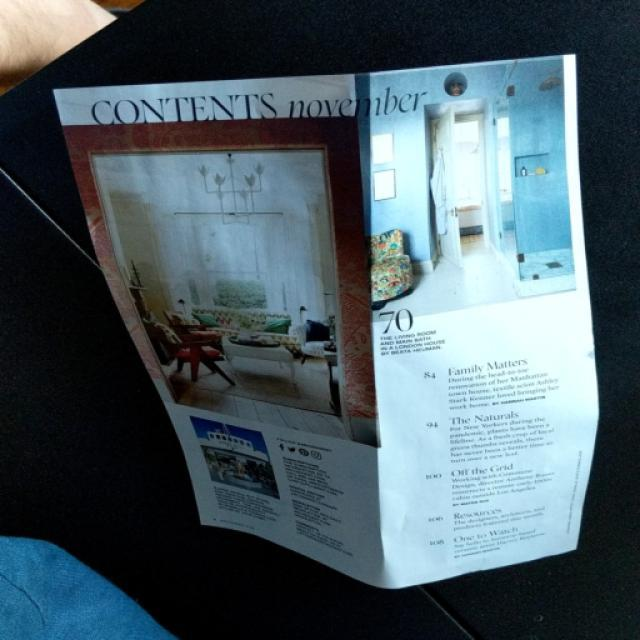document: (55, 55, 599, 588)
